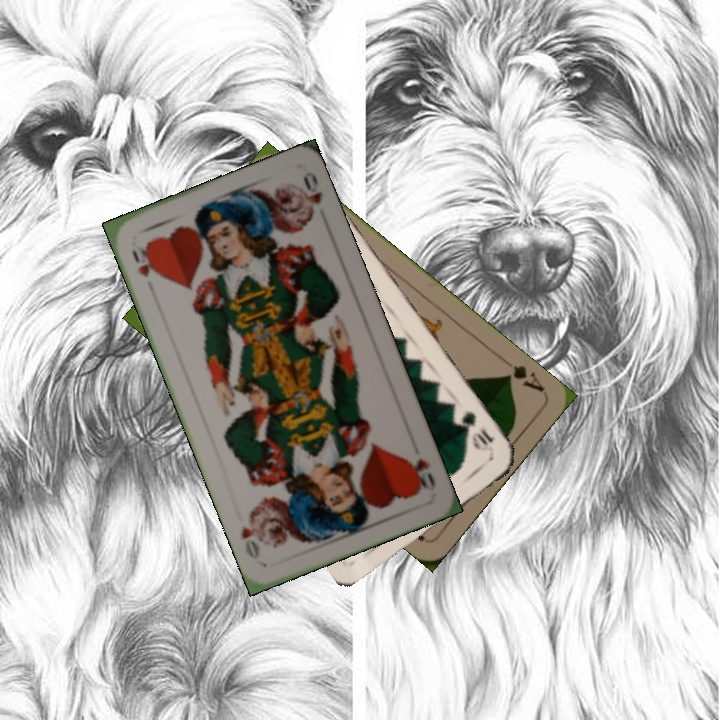G10: (457, 406, 496, 457)
GA: (500, 361, 548, 395)
HO: (403, 453, 439, 494), (127, 241, 159, 281)
